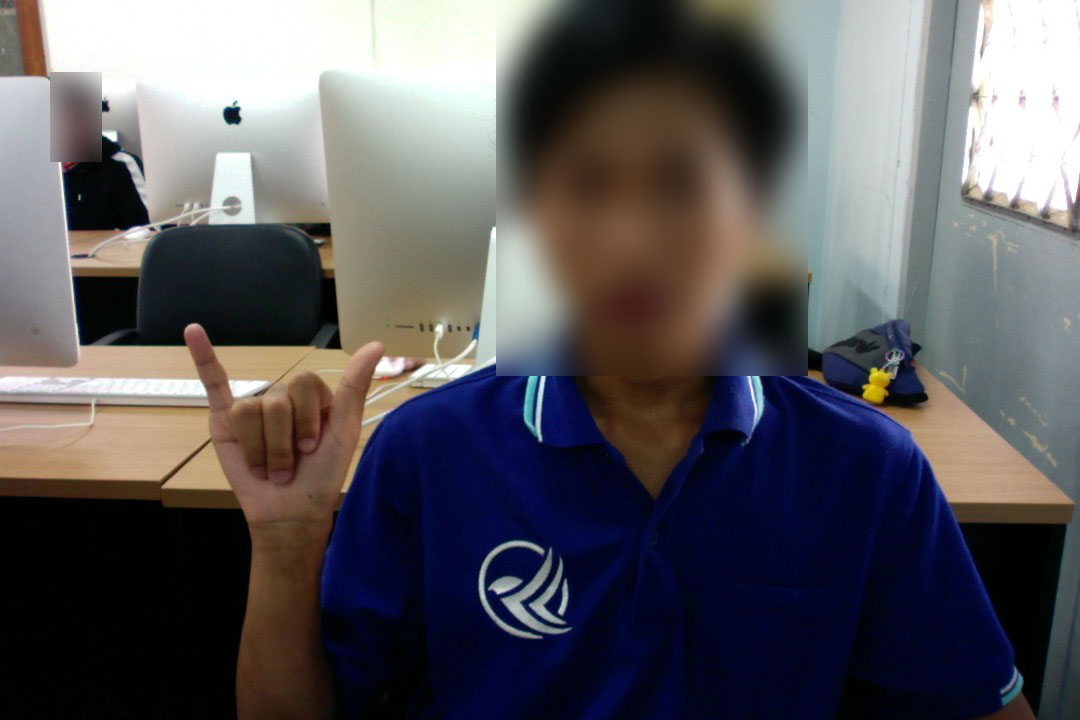yor: (180, 315, 392, 539)
